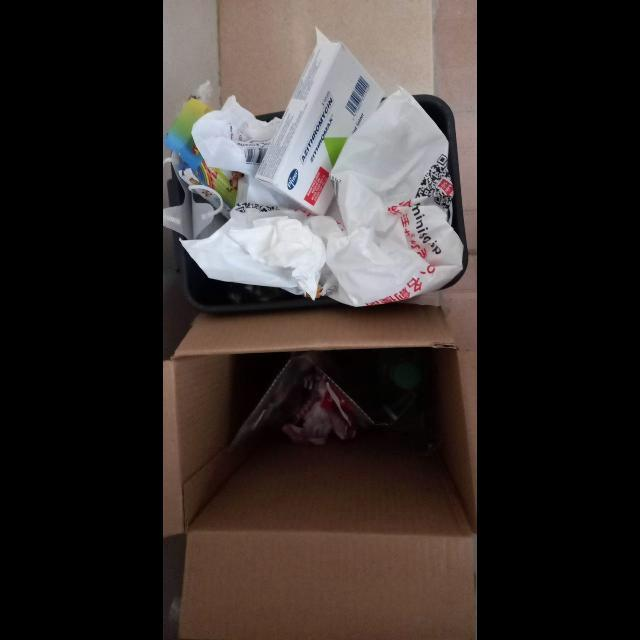cardboard: (256, 29, 384, 216)
paper: (230, 218, 328, 296)
plastic_bag: (181, 86, 465, 308), (192, 95, 302, 209)
